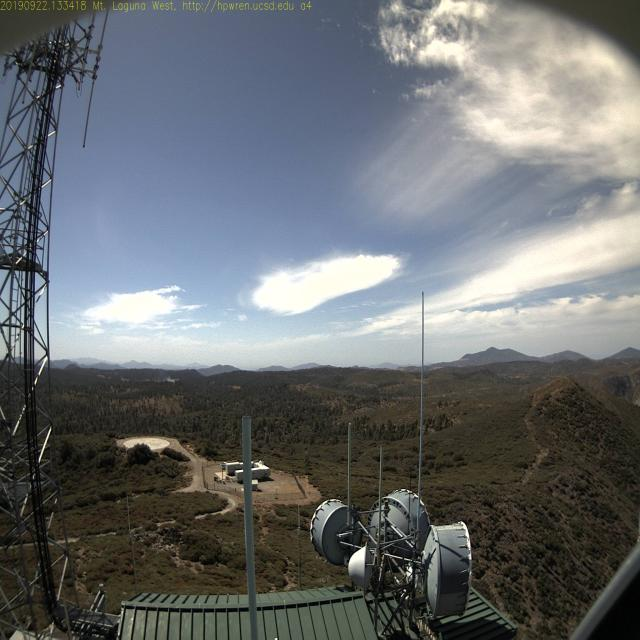smoke: (153, 366, 180, 386)
